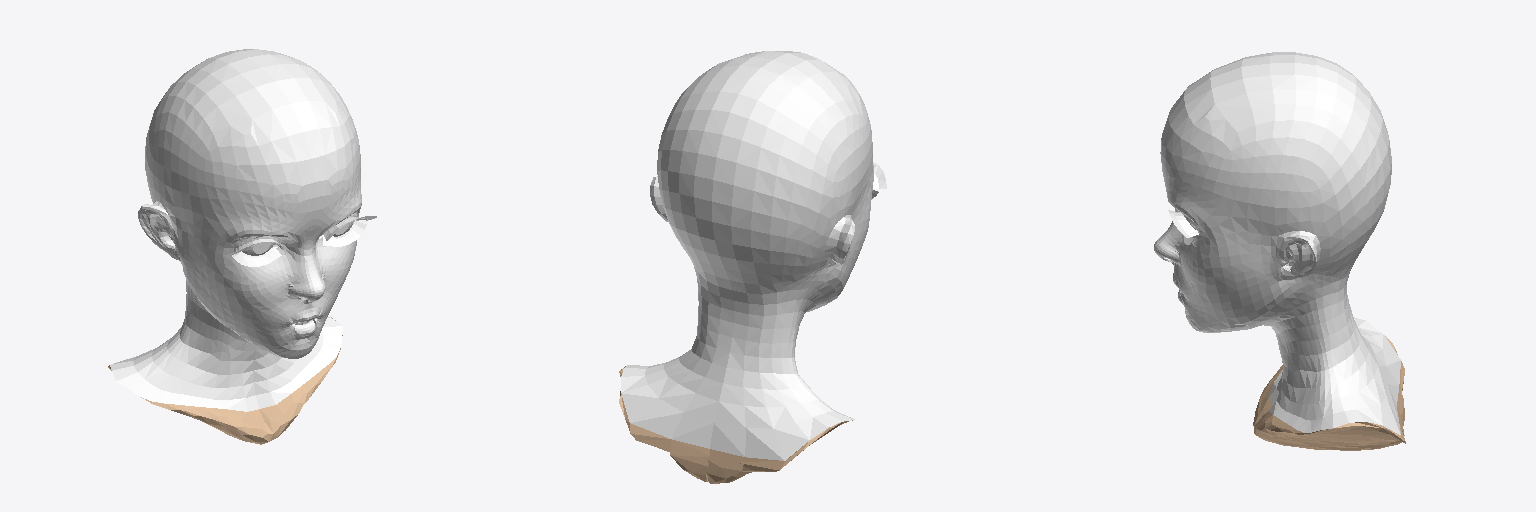
File: W_AND_Q.obj
3 views of the same model, side by side, from view 1: azimuth 30°, elevation 25°; view 2: azimuth 150°, elevation 25°; view 3: azimuth 270°, elevation 25° (orthographic).
Parts seen in each view (by area): view 1: Body, Eyelashes; view 2: Body; view 3: Body.
Part boxes in pixels (left/top/right/bottom): Body: left=110, top=49, right=361, bottom=411; Eyelashes: left=230, top=216, right=376, bottom=266; Body: left=621, top=51, right=873, bottom=460; Body: left=1154, top=52, right=1400, bottom=434.
Size of the model in its own units: 23 by 37.41 by 22.09.